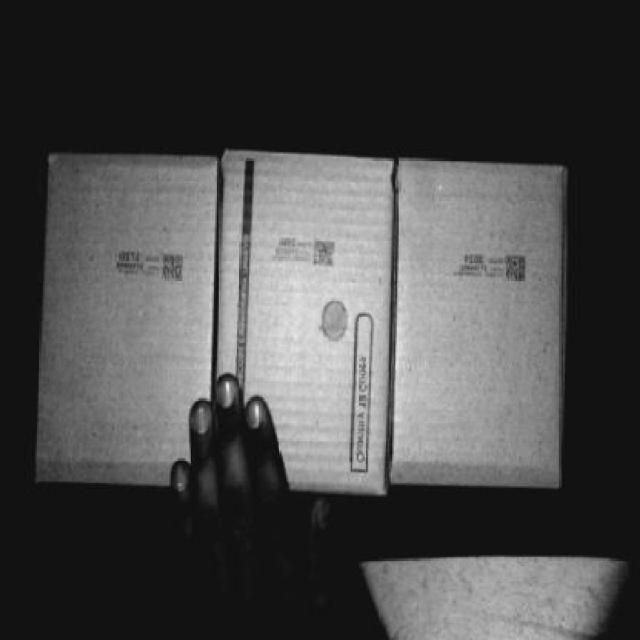cardboxes: (206, 155, 391, 491), (32, 155, 216, 488), (389, 162, 563, 482)
